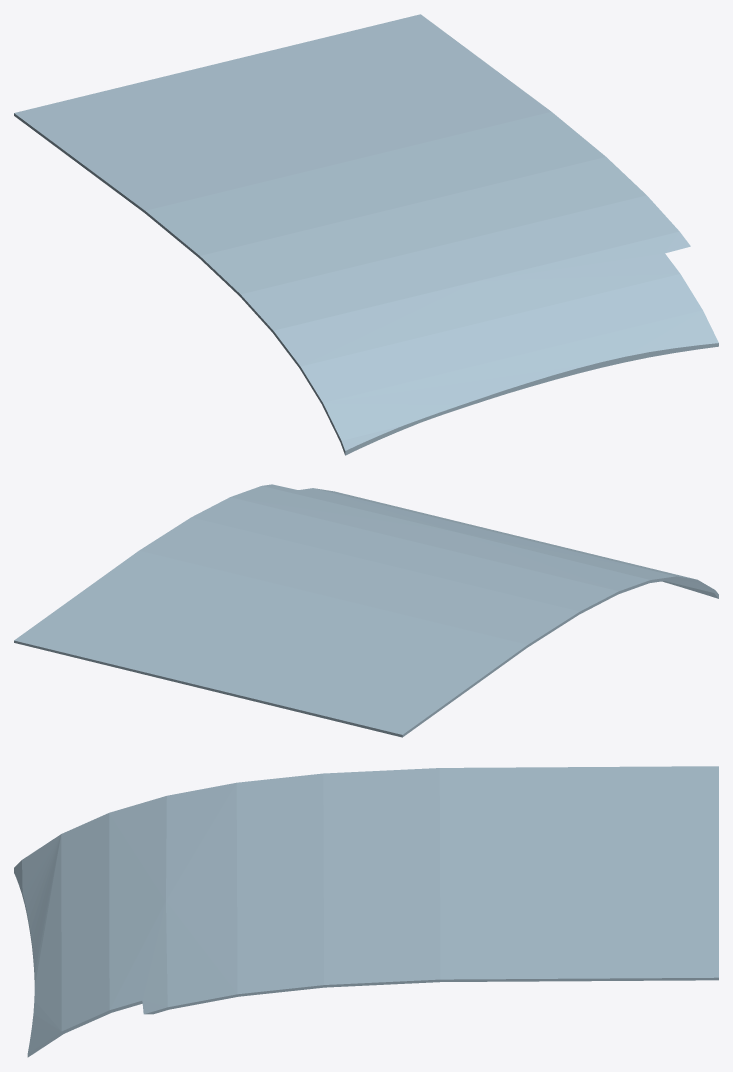
Rendered from CAN-R.glb.
3 renders of one model, top to bottom at view 1: azimuth 30°, elevation 25°; view 2: azimuth 150°, elevation 25°; view 3: azimuth 270°, elevation 25°, orthographic. The views are drawn at different scales.
Parts seen in each view (by area): view 1: geometry_0; view 2: geometry_0; view 3: geometry_0.
Boxes of the visible parts, left/top/right/bottom form: geometry_0: left=14, top=14, right=718, bottom=455; geometry_0: left=14, top=484, right=718, bottom=737; geometry_0: left=14, top=766, right=718, bottom=1057.
Size of the model in its own units: 488 by 115 by 689.
